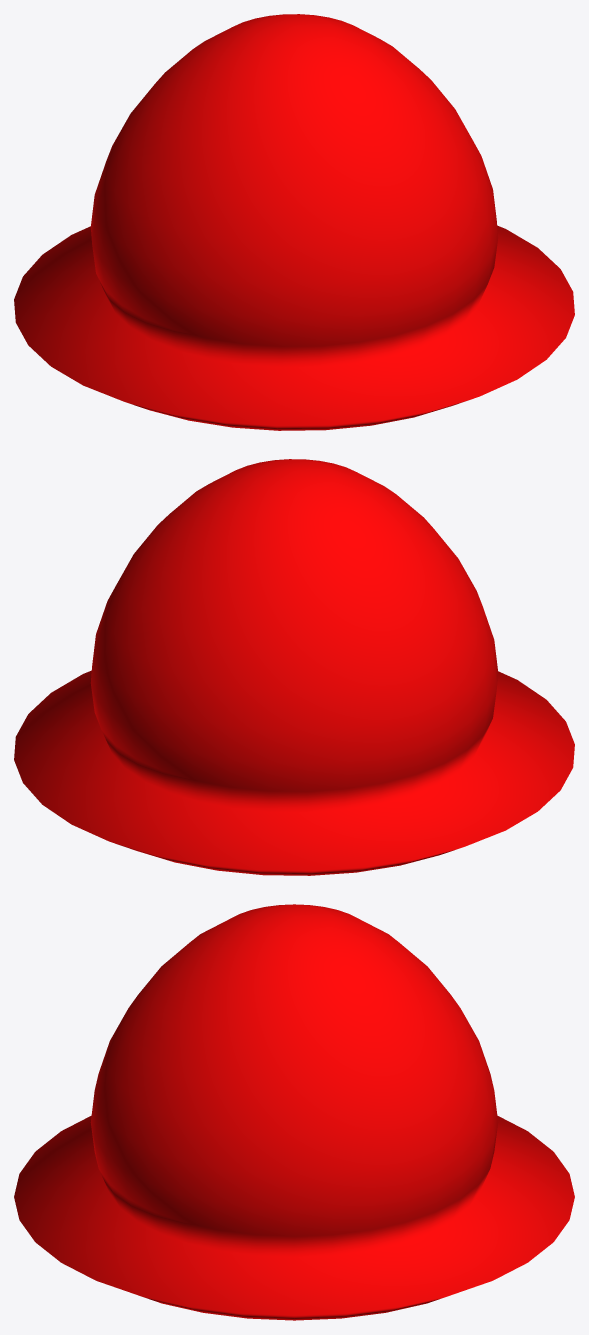
The model's file is Slime.fbx.
3 views of the same model, one above another, from view 1: azimuth 30°, elevation 25°; view 2: azimuth 150°, elevation 25°; view 3: azimuth 270°, elevation 25° (orthographic).
Visible parts, largest first — view 1: Sphere; view 2: Sphere; view 3: Sphere.
Part boxes in pixels (x1,y1,x2,y2): Sphere: [14, 14, 574, 430]; Sphere: [14, 459, 574, 875]; Sphere: [14, 904, 574, 1320].
Bounding box in the file's own units: 611 × 415 × 611.
